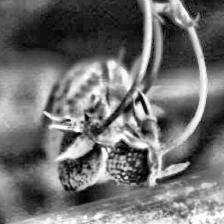Gray Mold: (41, 98, 120, 194)
